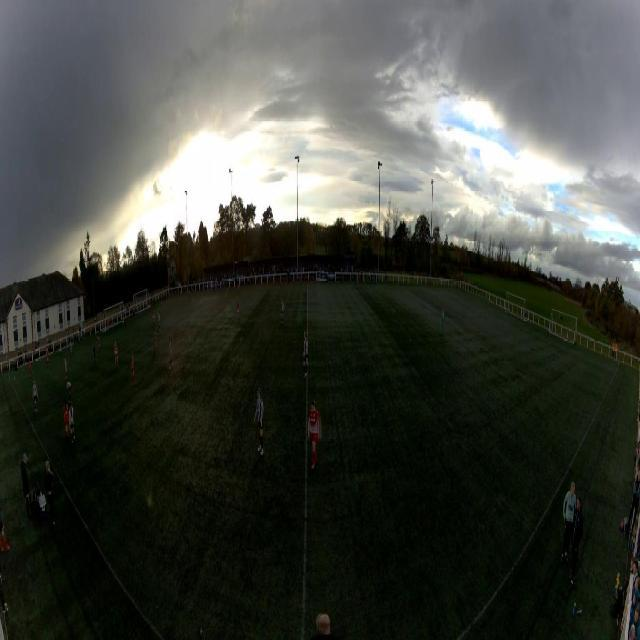ball: (14, 378, 16, 380)
player: (306, 401, 322, 470), (253, 386, 265, 457), (68, 401, 75, 443), (63, 401, 70, 440), (303, 333, 309, 374), (32, 378, 38, 413), (131, 352, 137, 386), (66, 378, 72, 406), (280, 298, 285, 325), (168, 336, 172, 368), (441, 308, 445, 336), (114, 340, 118, 368), (237, 299, 241, 324), (153, 332, 157, 354), (93, 341, 96, 366), (97, 335, 101, 353), (29, 360, 33, 378), (64, 359, 67, 381), (70, 343, 74, 358), (158, 312, 161, 331), (46, 347, 49, 365), (153, 310, 155, 328), (107, 317, 109, 332)
